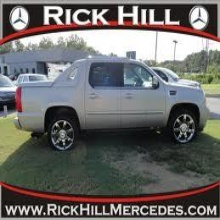no damage: (14, 55, 210, 153), (1, 70, 16, 107)
